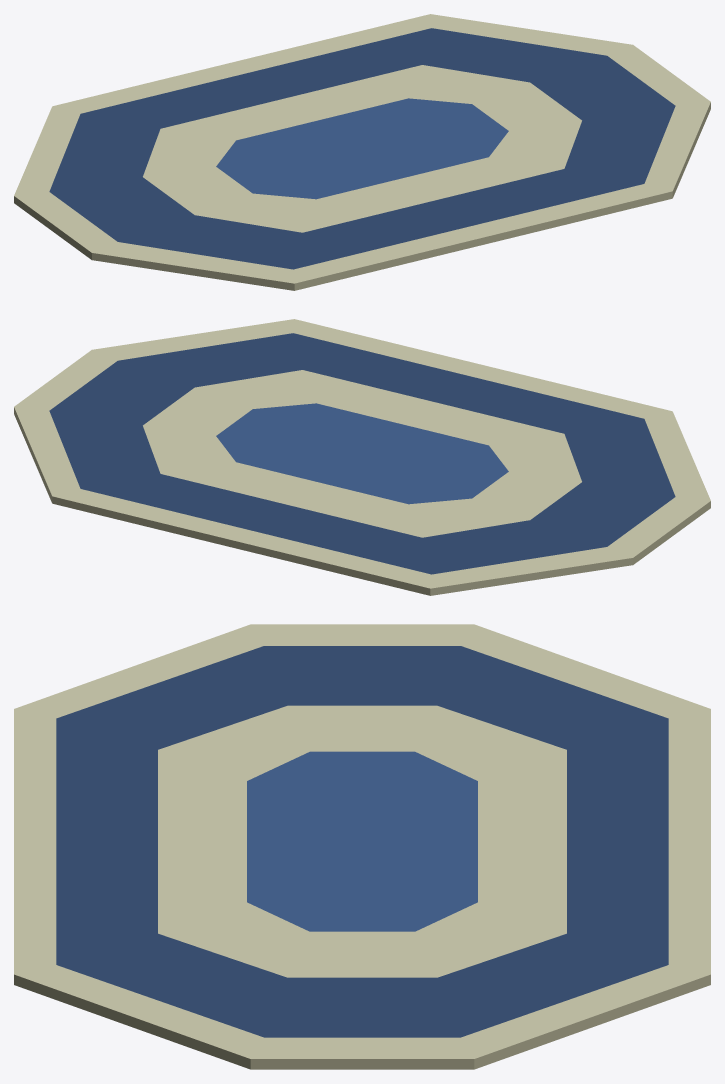
The model's file is alfombra.obj.
3 views of the same model, one above another, from view 1: azimuth 30°, elevation 25°; view 2: azimuth 150°, elevation 25°; view 3: azimuth 270°, elevation 25° (orthographic). The views are drawn at different scales.
Parts seen in each view (by area): view 1: Prop_Rug_03_Malla.144; view 2: Prop_Rug_03_Malla.144; view 3: Prop_Rug_03_Malla.144.
Part boxes in pixels (box(x1,y1,x2,y2)): Prop_Rug_03_Malla.144: box(14, 14, 710, 290); Prop_Rug_03_Malla.144: box(14, 319, 710, 595); Prop_Rug_03_Malla.144: box(14, 624, 710, 1069).
Bounding box in the file's own units: 238 × 2.69 × 161.
